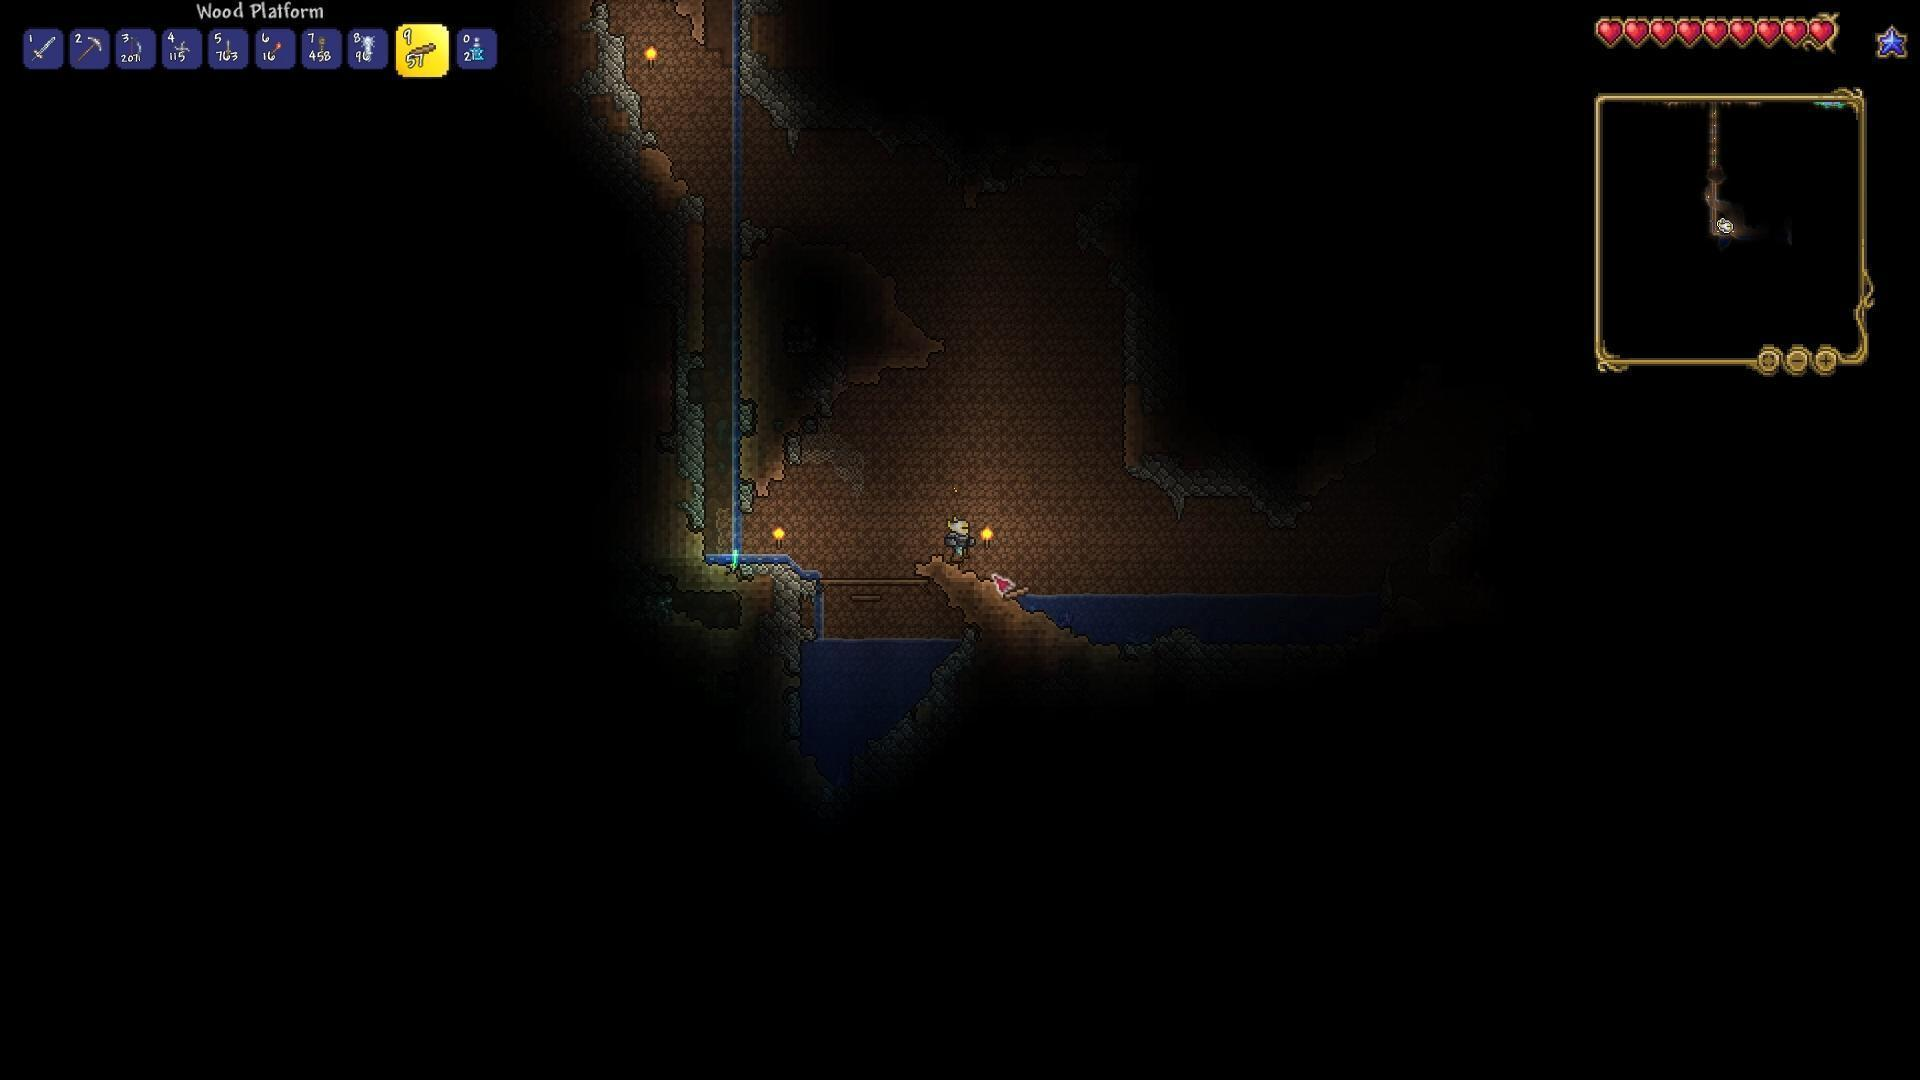bow: (125, 32, 145, 69)
glowstick: (727, 543, 741, 568)
heart: (1594, 17, 1625, 47), (1702, 17, 1727, 47), (1679, 18, 1702, 47)
knife: (223, 37, 232, 57)
pickaxe: (74, 34, 104, 65)
platform: (407, 40, 442, 59), (903, 568, 928, 591), (847, 592, 885, 605), (858, 575, 886, 592), (814, 571, 840, 587), (886, 575, 906, 592), (837, 575, 858, 584)
rope: (360, 33, 376, 61), (316, 34, 328, 65)
shuriken: (174, 38, 191, 57)
